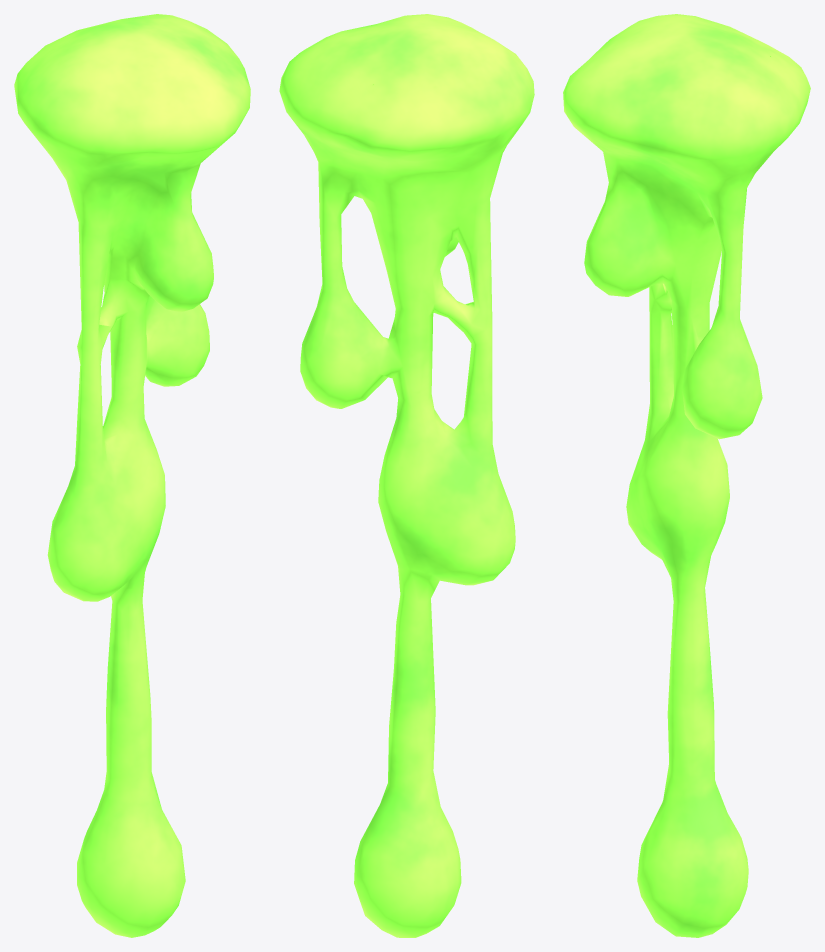
File: baba_colgante.fbx
The picture shows the model from 3 angles, left to right: view 1: azimuth 30°, elevation 25°; view 2: azimuth 150°, elevation 25°; view 3: azimuth 270°, elevation 25°; orthographic projection.
Parts seen in each view (by area): view 1: baba_cristal; view 2: baba_cristal; view 3: baba_cristal.
Boxes of the visible parts, x1=… form: baba_cristal: x1=14, y1=14, x2=250, y2=937; baba_cristal: x1=279, y1=14, x2=534, y2=937; baba_cristal: x1=563, y1=14, x2=810, y2=937.
Size of the model in its own units: 0.501 by 2 by 0.4994.
1 material, 1 textured.
